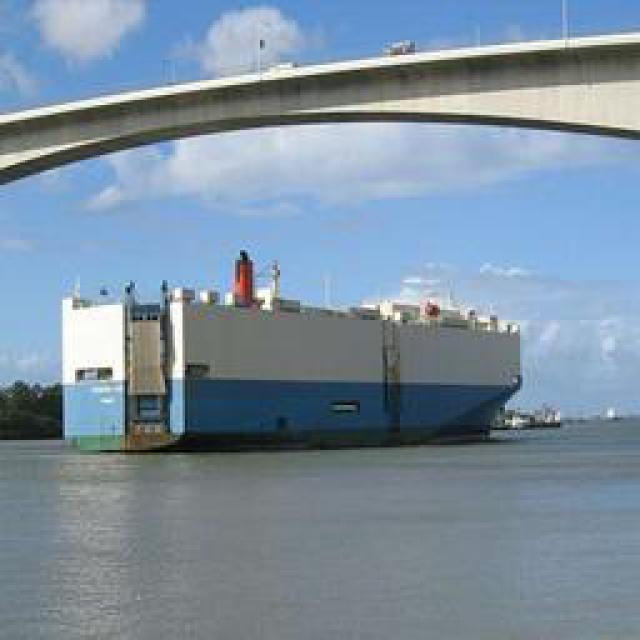Ship: (63, 275, 528, 455)
